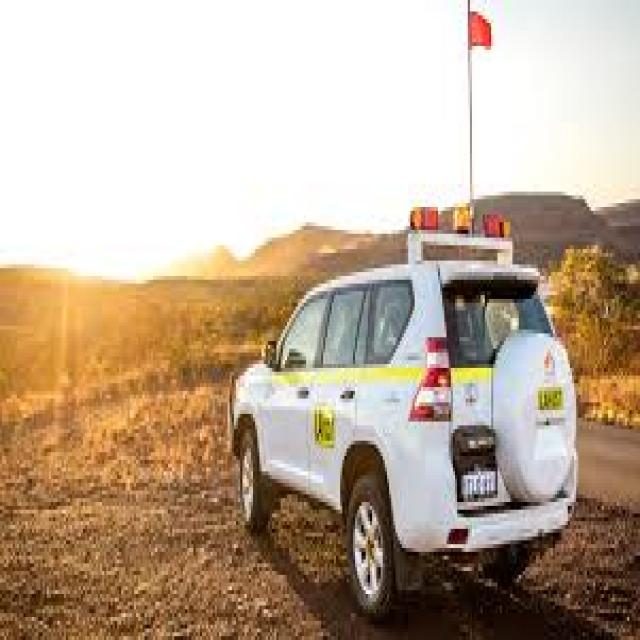light_vehicle: (215, 203, 600, 632)
